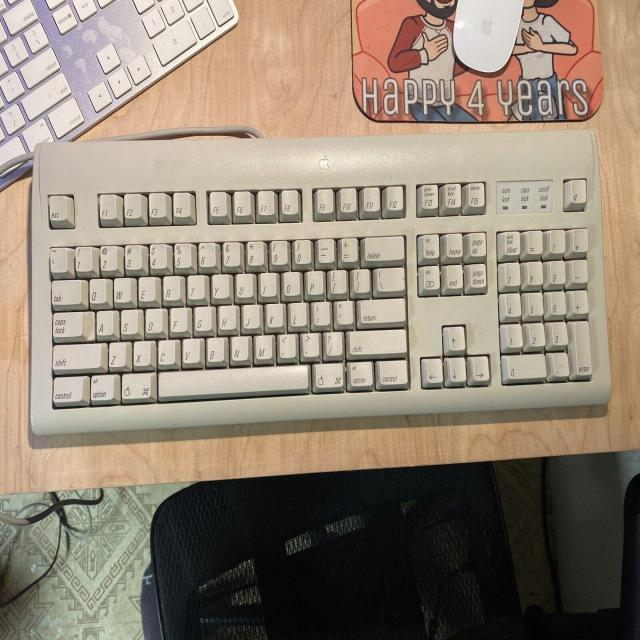keyboard: (32, 132, 613, 437)
